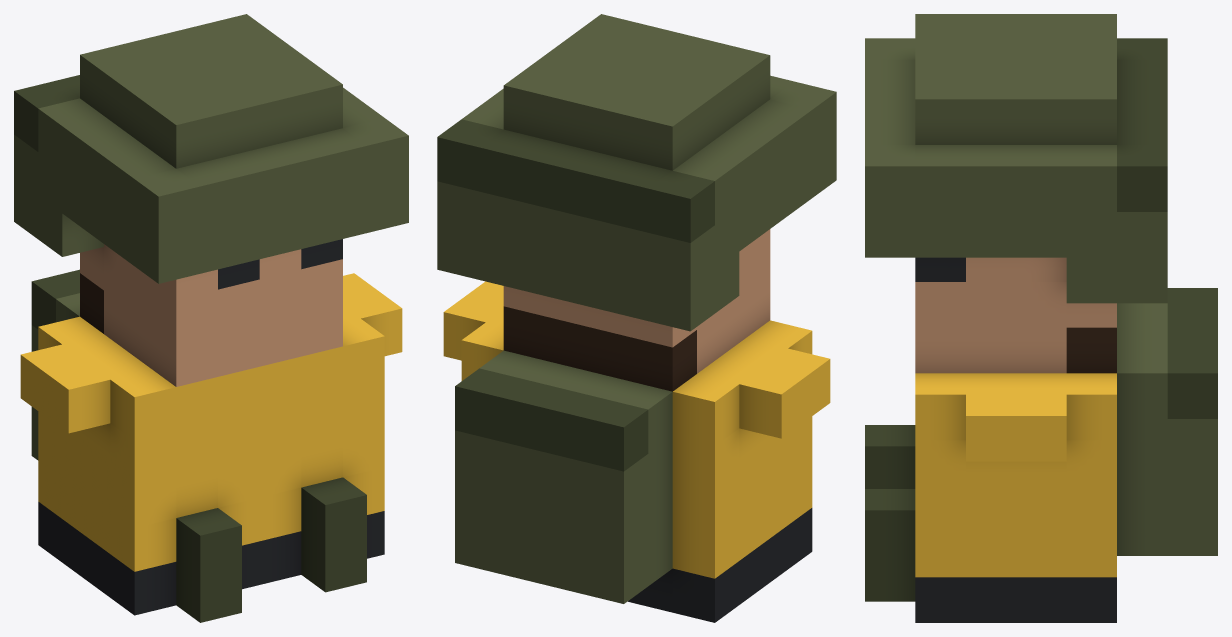
3 renders of one model, left to right at view 1: azimuth 30°, elevation 25°; view 2: azimuth 150°, elevation 25°; view 3: azimuth 270°, elevation 25°, orthographic. The views are drawn at different scales.
Visible parts, largest first — view 1: cm_at_t_2_body; view 2: cm_at_t_2_body; view 3: cm_at_t_2_body.
Boxes of the visible parts, x1=… form: cm_at_t_2_body: x1=14, y1=14, x2=408, y2=622; cm_at_t_2_body: x1=437, y1=14, x2=836, y2=622; cm_at_t_2_body: x1=865, y1=14, x2=1217, y2=622.
Bounding box in the file's own units: 0.5 × 0.6875 × 0.4375.
Materials: 1 (1 with a texture image).
